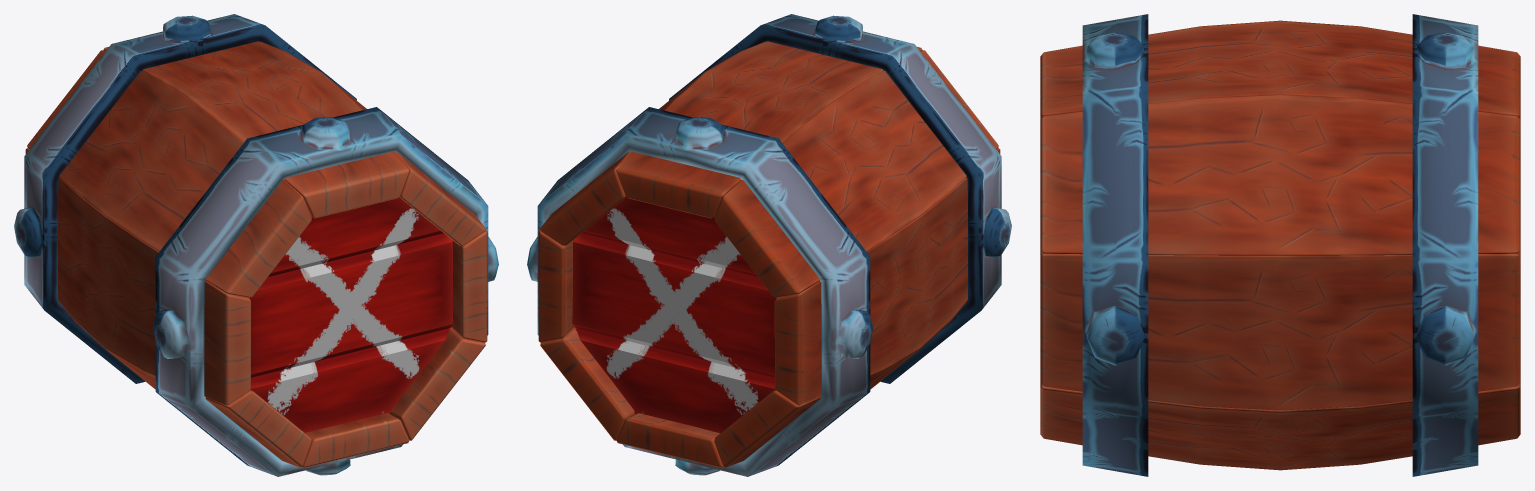
File: barrel_anim.fbx
3 renders of one model, left to right at view 1: azimuth 30°, elevation 25°; view 2: azimuth 150°, elevation 25°; view 3: azimuth 270°, elevation 25°, orthographic. The views are drawn at different scales.
Parts seen in each view (by area): view 1: l_barrel_top.007, l_hoop.004, l_plank.031, l_plank.032, l_hoop.005, l_plank.030, l_plank.035, l_plank.033, l_plank.028, l_plank.029, l_plank.034; view 2: l_barrel_top.008, l_hoop.005, l_plank.031, l_plank.032, l_hoop.004, l_plank.030, l_plank.035, l_plank.033, l_plank.028, l_plank.029, l_plank.034; view 3: l_plank.029, l_plank.028, l_hoop.005, l_hoop.004, l_plank.030, l_plank.035.
Part boxes in pixels (box(x1,y1,x2,y2)): l_barrel_top.007: box(249, 197, 452, 432); l_hoop.004: box(153, 107, 498, 476); l_plank.031: box(27, 50, 311, 297); l_plank.032: box(25, 148, 251, 405); l_hoop.005: box(14, 14, 356, 383); l_plank.030: box(103, 41, 409, 218); l_plank.035: box(390, 327, 485, 440); l_plank.033: box(59, 301, 311, 467); l_plank.028: box(451, 230, 487, 342); l_plank.029: box(261, 42, 485, 245); l_plank.034: box(301, 413, 409, 468); l_barrel_top.008: box(572, 197, 776, 433); l_hoop.005: box(527, 107, 872, 476); l_plank.031: box(714, 50, 998, 297); l_plank.032: box(774, 148, 1000, 405); l_hoop.004: box(669, 14, 1011, 383); l_plank.030: box(616, 41, 922, 218); l_plank.035: box(540, 327, 634, 440); l_plank.033: box(714, 301, 966, 467); l_plank.028: box(538, 230, 573, 342); l_plank.029: box(540, 42, 764, 245); l_plank.034: box(616, 413, 724, 468); l_plank.029: box(1040, 95, 1520, 255); l_plank.028: box(1040, 253, 1520, 410); l_hoop.005: box(1412, 14, 1478, 476); l_hoop.004: box(1082, 14, 1148, 476); l_plank.030: box(1040, 21, 1520, 119); l_plank.035: box(1040, 383, 1520, 470).
Bounding box in the file's own units: 562 × 562 × 595.
